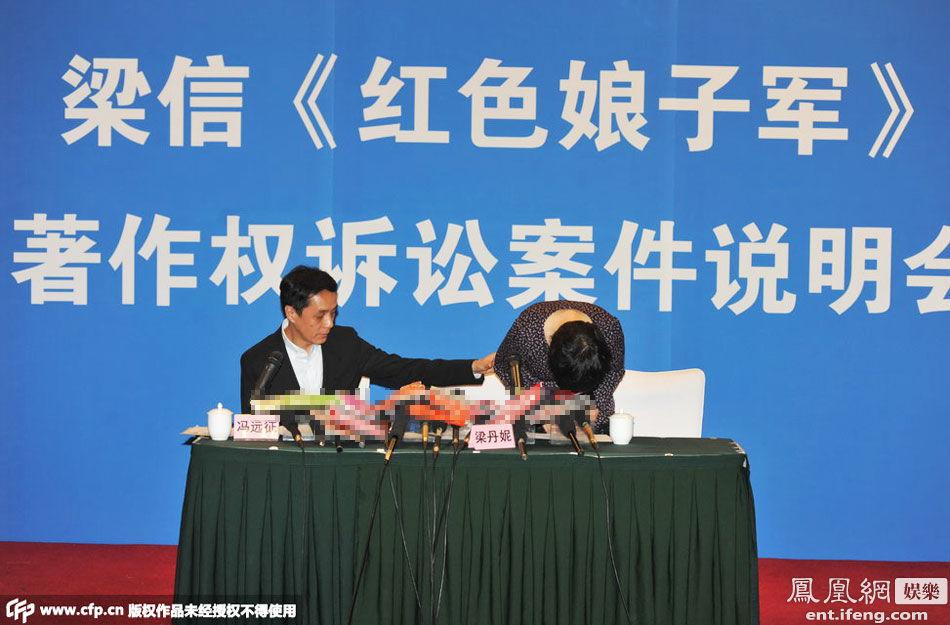bending: (483, 295, 634, 442)
